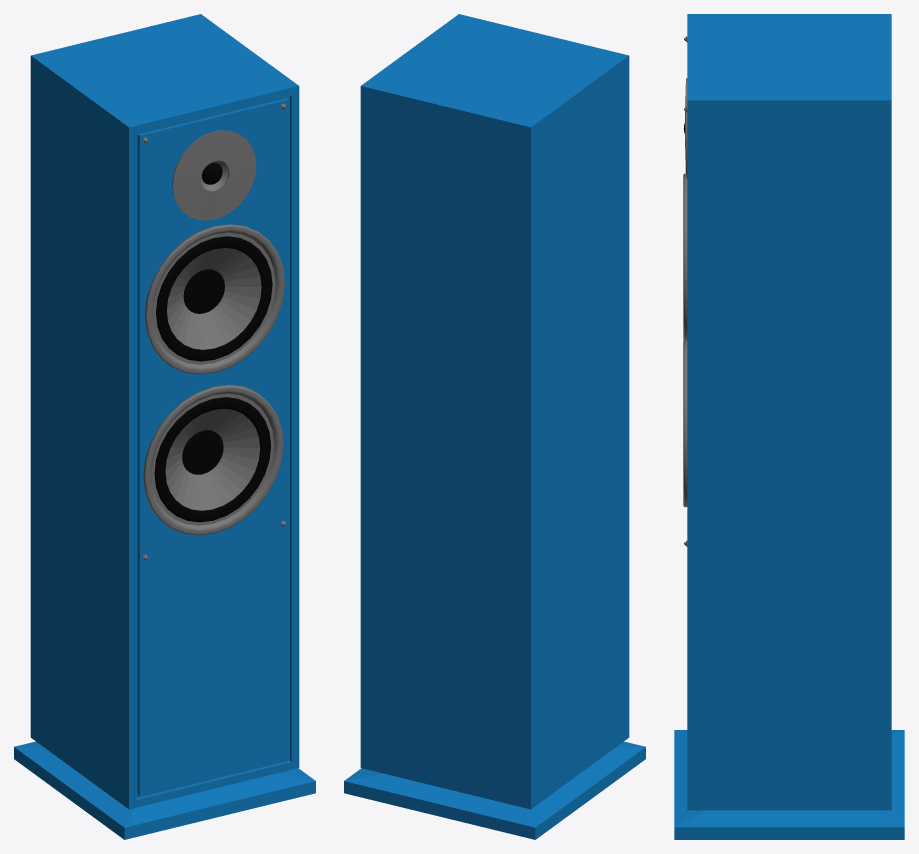
Rendered from 스피커_파_큰.FBX.
3 views of the same model, side by side, from view 1: azimuth 30°, elevation 25°; view 2: azimuth 150°, elevation 25°; view 3: azimuth 270°, elevation 25° (orthographic). The views are drawn at different scales.
Parts seen in each view (by area): view 1: Box006, Circle018, Circle017, Circle015; view 2: Box006; view 3: Box006, Circle018, Circle017.
Part boxes in pixels (bbox=[...]): Box006: bbox=[14, 14, 315, 839]; Circle018: bbox=[143, 384, 283, 535]; Circle017: bbox=[144, 224, 284, 374]; Circle015: bbox=[172, 130, 256, 220]; Box006: bbox=[344, 14, 645, 839]; Box006: bbox=[674, 14, 904, 839]; Circle018: bbox=[683, 340, 687, 507]; Circle017: bbox=[683, 173, 687, 340].
Size of the model in its own units: 248 by 875 by 248.
